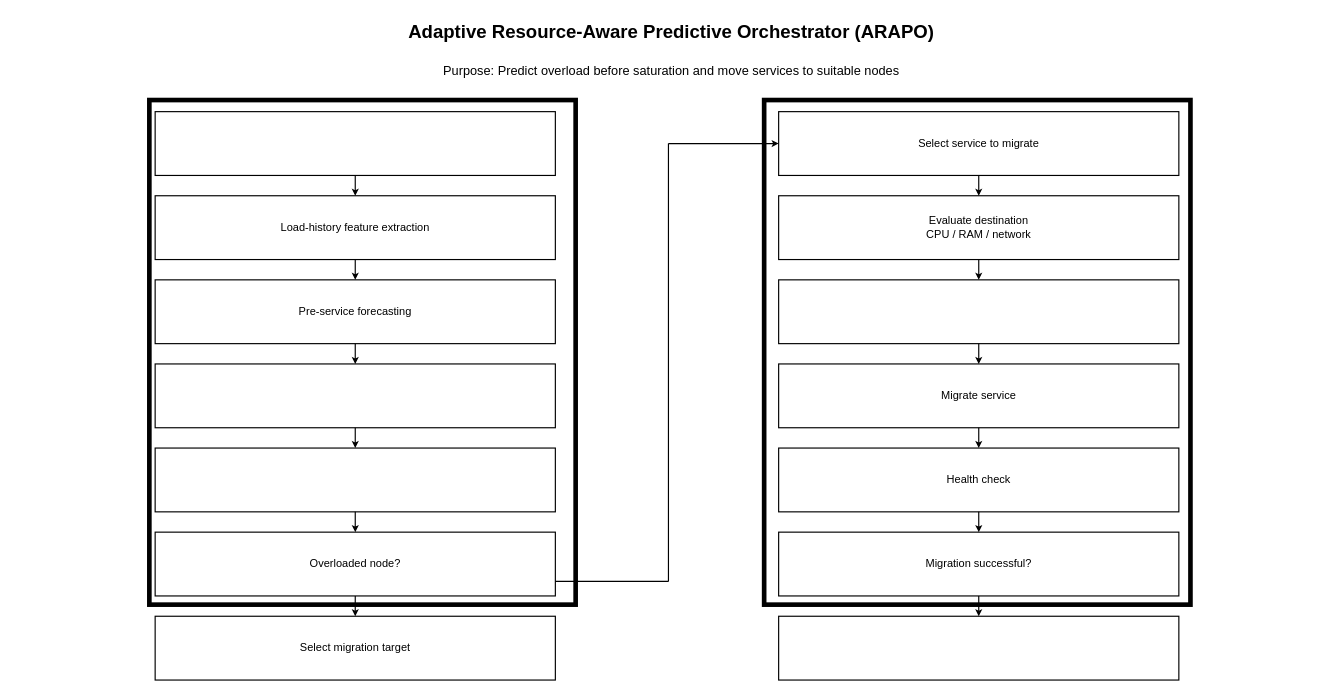
This 1342x690 diagram has some shape labels left out. The shapes that lost their labels are listed below. From the top down, each one's centre as x and y in pixels, then its label:
point 355,143: Collect high-rate metrics Resource utilization / service metrics
point 978,311: Select target node
point 355,395: Node-load aggregation
point 355,479: Predicted node load Forecast horizon
point 978,647: Confirm or roll back
